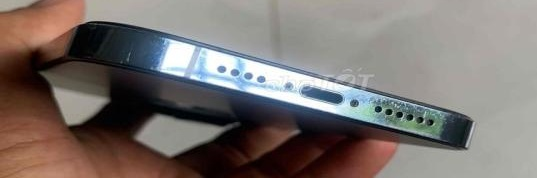scratch: (81, 18, 461, 147)
